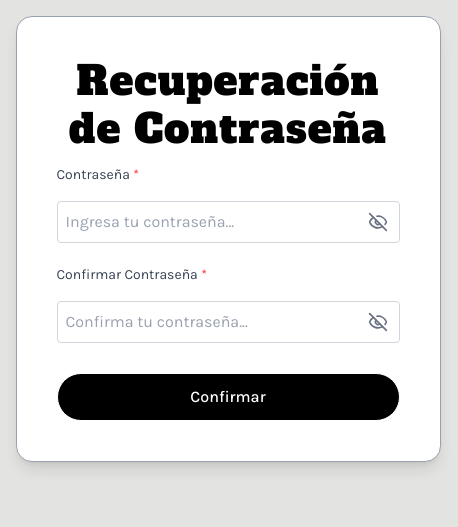
Test: ResetPage › muestra un mensaje de error si Supabase retorna un error
This screenshot has width=458, height=527.
In the password field with test id "password-input": [228, 222] box x1=56 y1=201 x2=400 y2=243, type "Admin1234"
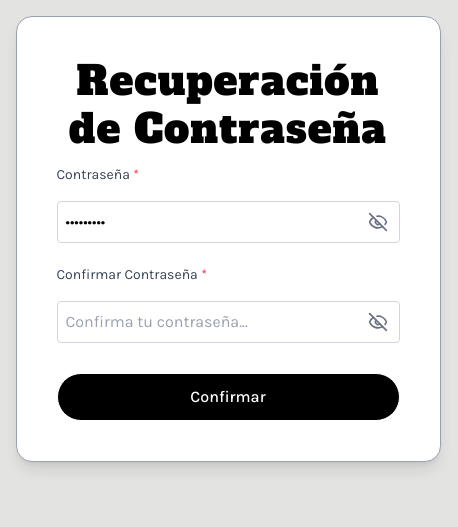
In the password field with test id "confirmation-input": [228, 322] box x1=56 y1=301 x2=400 y2=343, type "Admin1234"
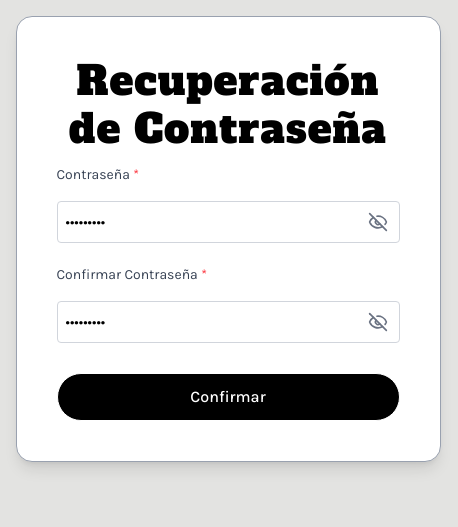
Click the button "Confirmar": [228, 397] box x1=56 y1=373 x2=400 y2=421
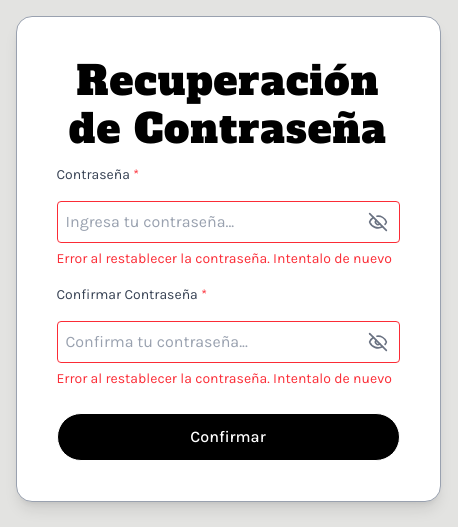
Now the text "Error al restablecer la contraseña. Intentalo de nuevo" is shown 2 times, box x1=56 y1=249 x2=392 y2=269; x1=56 y1=369 x2=392 y2=389
